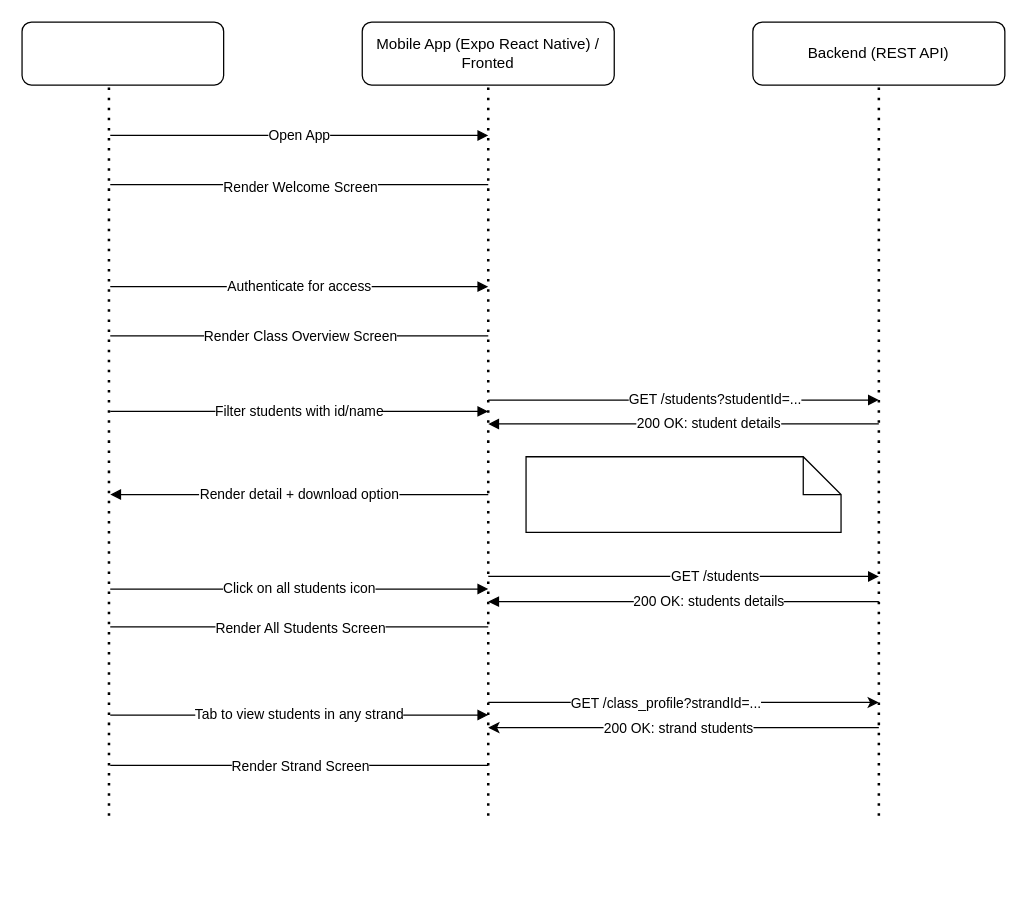
Some shapes in this 1027 by 907 pixel diagram are drawn without their labels. The shapes that lost their labels are listed below. From the top down, each one's box as (x1, y1, x2, y2) in pixels, then its label:
(21, 21, 224, 85): Teacher
(525, 455, 841, 532): Handle errors: - Network fail - Empty states - Retry & toasts
